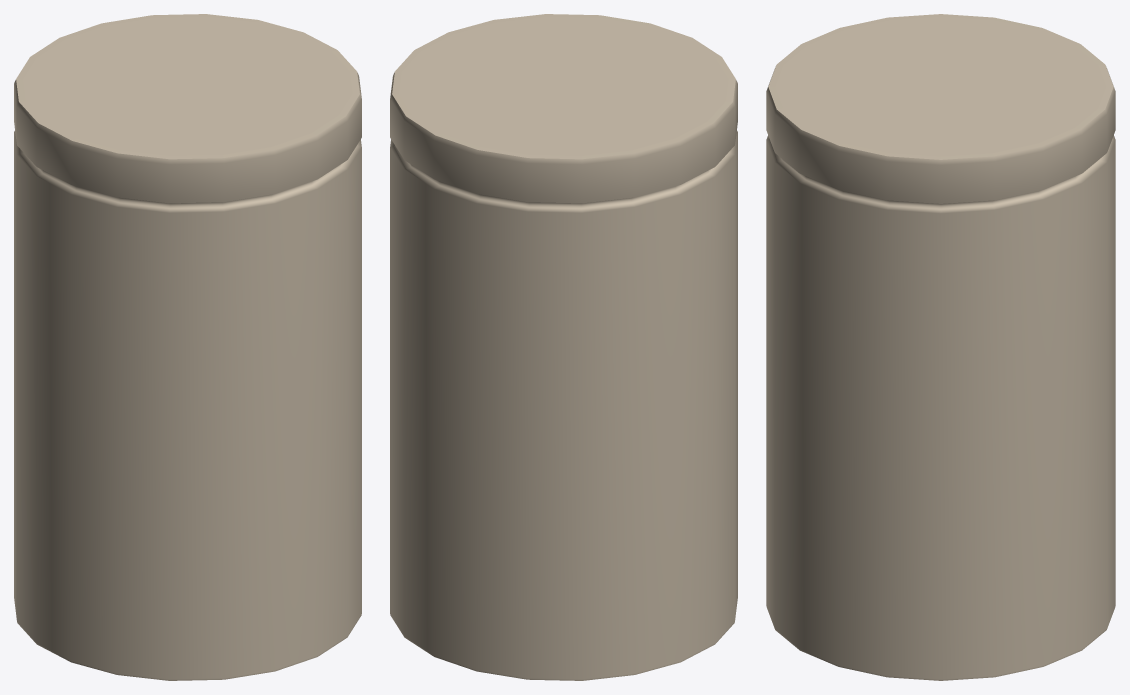
The model's file is trash_can_1_21_L.fbx.
The picture shows the model from 3 angles, left to right: view 1: azimuth 30°, elevation 25°; view 2: azimuth 150°, elevation 25°; view 3: azimuth 270°, elevation 25°; orthographic projection.
Visible parts, largest first — view 1: trash_can_1_21_L; view 2: trash_can_1_21_L; view 3: trash_can_1_21_L.
Boxes of the visible parts, x1,y1,x2,y2 form: trash_can_1_21_L: (14, 14, 361, 680); trash_can_1_21_L: (390, 14, 737, 680); trash_can_1_21_L: (766, 14, 1115, 680).
Size of the model in its own units: 4.65 by 7.64 by 4.65.
